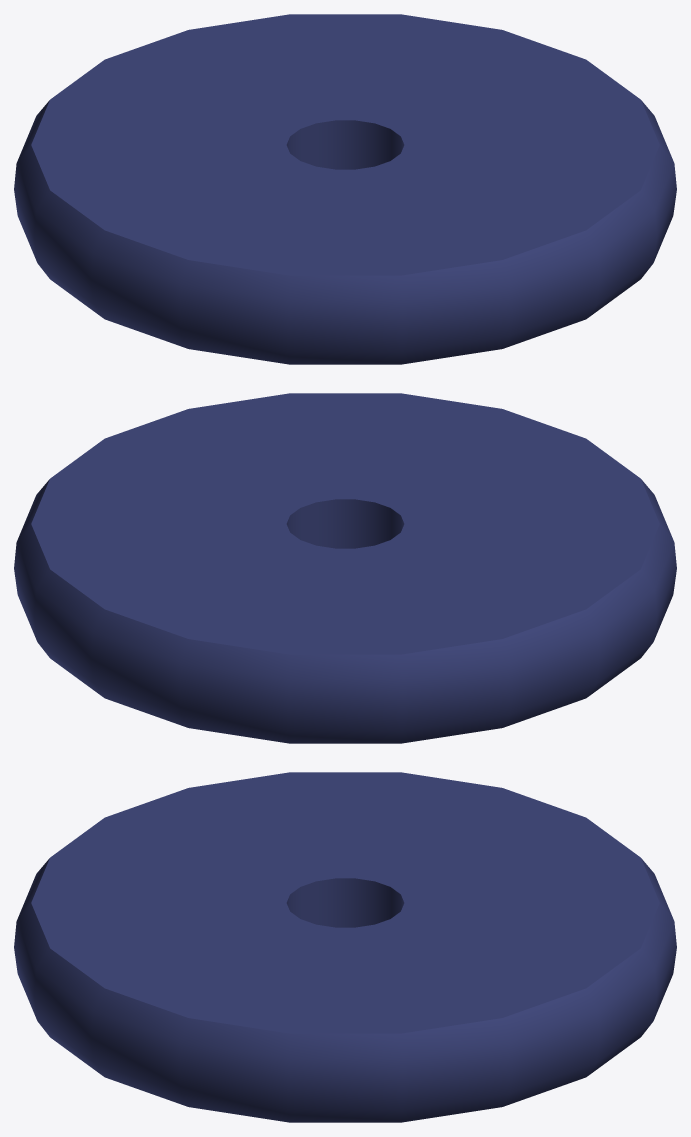
Rendered from ThrowProp_RainbowStackerRing_02.FBX.
3 renders of one model, top to bottom at view 1: azimuth 30°, elevation 25°; view 2: azimuth 150°, elevation 25°; view 3: azimuth 270°, elevation 25°, orthographic.
Visible parts, largest first — view 1: RainbowStackerRing_02; view 2: RainbowStackerRing_02; view 3: RainbowStackerRing_02.
Part boxes in pixels (bbox=[...]): RainbowStackerRing_02: bbox=[14, 14, 676, 364]; RainbowStackerRing_02: bbox=[14, 393, 676, 743]; RainbowStackerRing_02: bbox=[14, 772, 676, 1122].
Size of the model in its own units: 16.62 by 2.5 by 16.88.
Materials: 1 (1 with a texture image).
